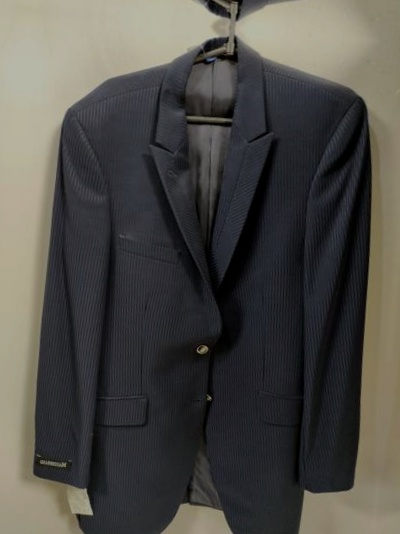Blazer: (8, 37, 400, 534), (385, 71, 400, 534), (57, 0, 400, 18), (0, 1, 3, 531)
